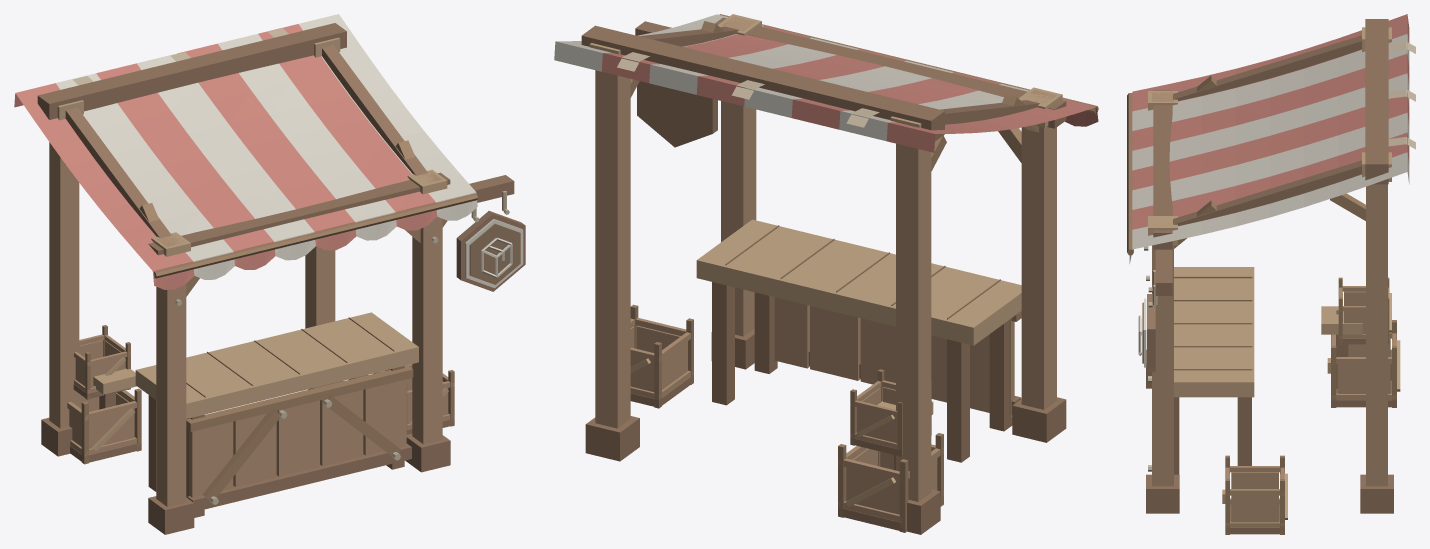
File: port-trade-n1-v1.glb
3 renders of one model, left to right at view 1: azimuth 30°, elevation 25°; view 2: azimuth 150°, elevation 25°; view 3: azimuth 270°, elevation 25°, orthographic. The views are drawn at different scales.
Parts seen in each view (by area): view 1: cloth, structure, counter, crates, sign; view 2: structure, counter, cloth, crates, sign; view 3: cloth, structure, counter, crates, sign.
Part boxes in pixels (x1,y1,x2,y2): cloth: [14, 14, 477, 289]; structure: [37, 23, 477, 534]; counter: [93, 312, 418, 517]; crates: [67, 325, 454, 464]; sign: [442, 175, 525, 291]; structure: [581, 14, 1098, 534]; counter: [696, 219, 1021, 470]; cloth: [554, 14, 1098, 152]; crates: [630, 304, 943, 532]; sign: [635, 21, 717, 147]; cloth: [1129, 14, 1415, 263]; structure: [1127, 19, 1393, 513]; counter: [1148, 267, 1362, 474]; crates: [1222, 277, 1400, 534]; sign: [1138, 249, 1172, 372].
Size of the model in its own units: 3.38 by 2.99 by 2.23.
